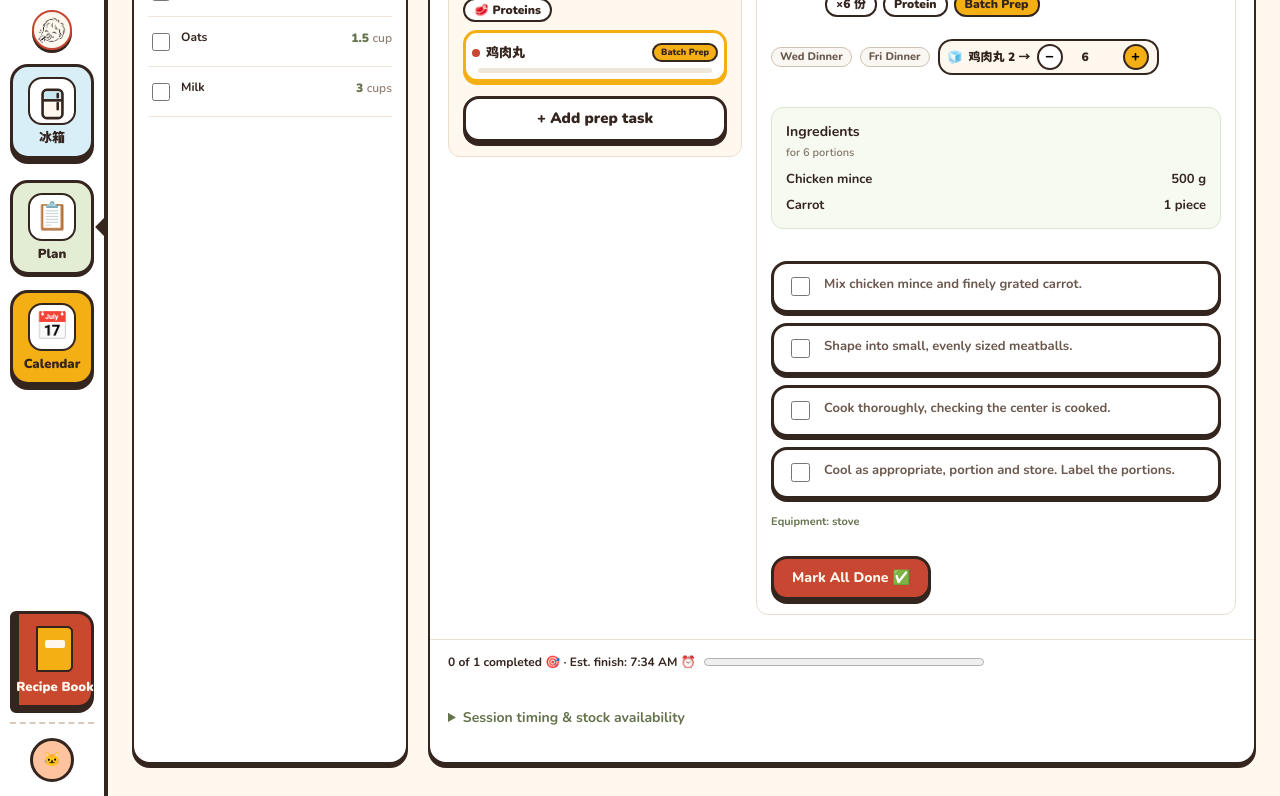
Test: shows failed prep commands inside the shopping and prep stage
(page scrolled)
Click the button with aria-label "Mark prepared".
click(851, 578)  # box [771,556,931,600]
(page scrolled)
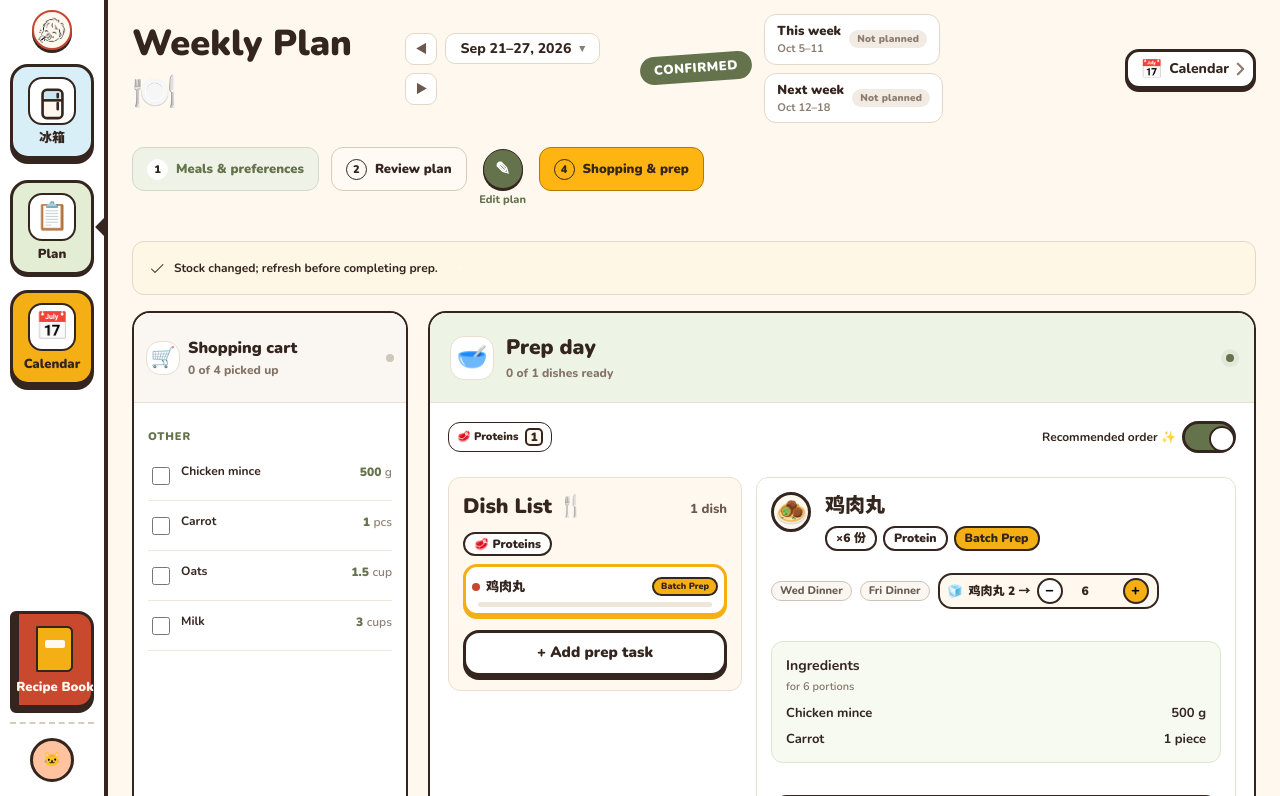
Result: the message shows "Stock changed; refresh before completing prep." at [174,260,438,276]
Result: the element showing "Stock changed; refresh before completing prep. ×" is shown at [132,241,1256,295]
